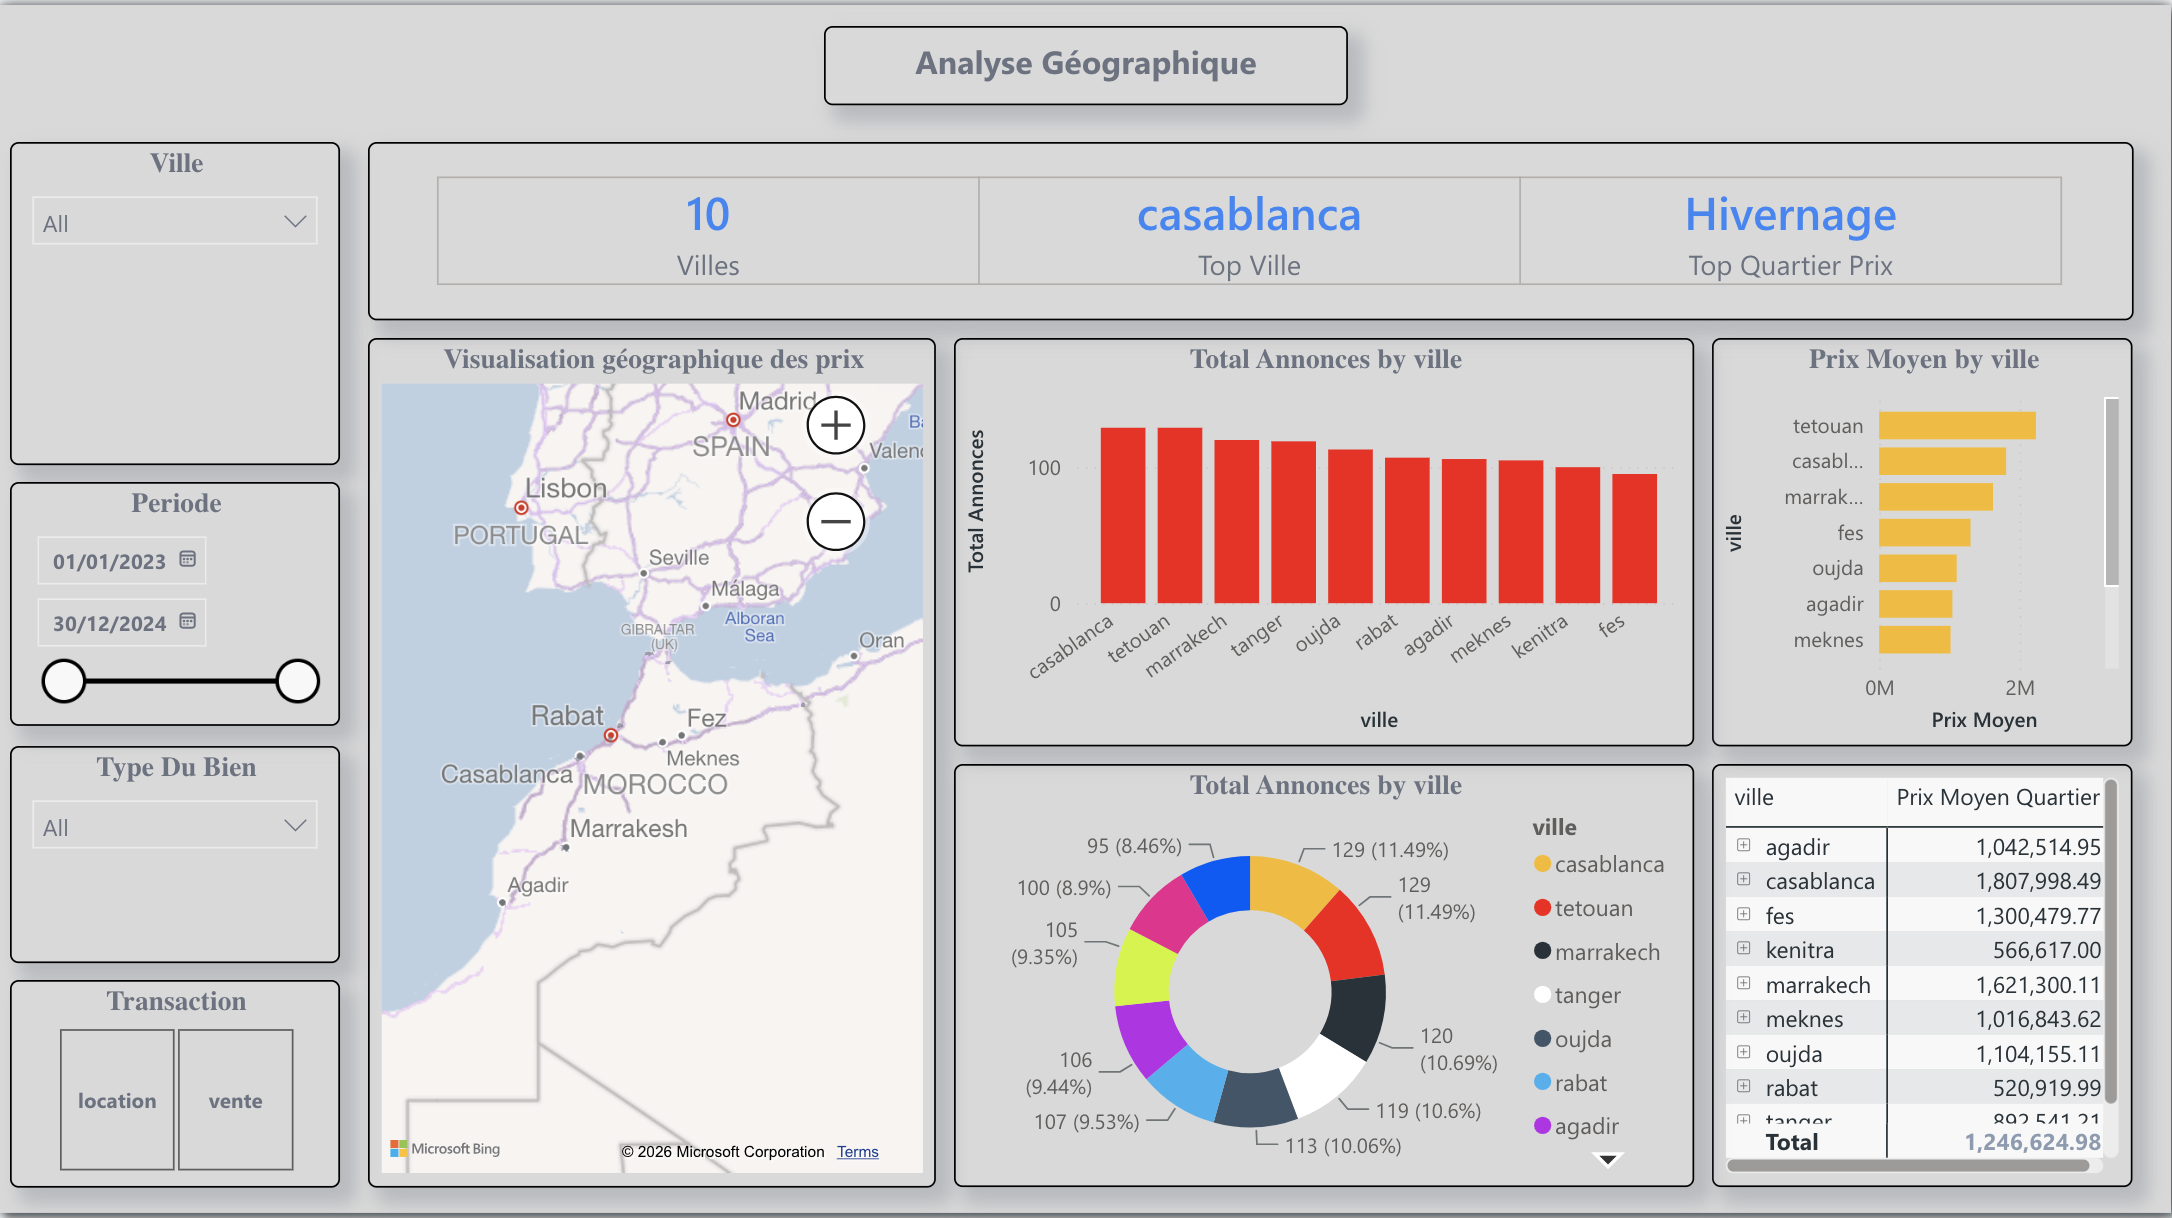

The page's visual inventory and layout, read from the dashboard file:
{"tool":"powerbi","page":{"name":"Analyse Géographique","canvas":[1280,720],"ordinal":3},"visuals":[{"type":"shape","box":[0,0,1280,720],"z":0},{"type":"shape","box":[0,0,1280,720],"z":1000},{"type":"shape","box":[0,0,1280,720.6],"z":2000},{"type":"cardVisual","fields":{"Data":["_measures_glob_page.Nb Villes","Analyse Géographique.Top Ville","Analyse Géographique.Top Quartier Prix"]},"box":[224,89.1,1024.5,103.5],"z":3000},{"type":"textbox","box":[488.7,22.3,304,45.9],"z":4000},{"type":"slicer","title":"Ville","fields":{"Values":["gold subdim_ville.ville"]},"box":[15.7,89.1,191.3,187.3],"z":5000},{"type":"slicer","title":"Type Du Bien ","fields":{"Values":["gold subdim_type_bien.type_bien"]},"box":[15.7,440.2,191.3,125.8],"z":6000},{"type":"slicer","title":"Periode","fields":{"Values":["gold dim_date.date_publication"]},"box":[15.7,286.9,191.3,141.5],"z":7000},{"type":"slicer","title":"Transaction","fields":{"Values":["gold dim_transaction.transaction"]},"box":[15.7,575.1,191.3,120.5],"z":8000},{"type":"filledMap","title":"Visualisation géographique des prix","fields":{"Category":["gold subdim_ville.ville"]},"box":[223.6,203,329.6,492.9],"z":9000},{"type":"clusteredBarChart","fields":{"Category":["gold subdim_ville.ville"],"Y":["_measures_glob_page.Prix Moyen"]},"box":[1003.4,203,244.2,236.9],"z":10000},{"type":"clusteredColumnChart","fields":{"Category":["gold subdim_ville.ville"],"Y":["_measures_glob_page.Total Annonces"]},"box":[563.5,203,429.6,236.9],"z":11000},{"type":"pivotTable","fields":{"Rows":["gold subdim_ville.ville","gold subdim_quartier.quartier"],"Values":["Analyse Géographique.Prix Moyen Quartier"]},"box":[1003.4,450.2,244.2,245.7],"z":12000},{"type":"donutChart","fields":{"Category":["gold subdim_ville.ville"],"Y":["_measures_glob_page.Total Annonces"]},"box":[563.5,450.2,429.6,245.7],"z":13000}]}

Visuals, with their boxes in screenshot pixels (x1, y1, x2, y2), scaled from the page's 1280x720 canvas onto the 2172x1218 screenshot:
shape: bbox=(0, 0, 2171, 1217)
shape: bbox=(0, 0, 2171, 1217)
shape: bbox=(0, 0, 2171, 1217)
cardVisual - _measures_glob_page.Nb Villes x Analyse Géographique.Top Ville: bbox=(380, 151, 2119, 326)
textbox: bbox=(829, 38, 1345, 115)
"Ville" slicer: bbox=(27, 151, 351, 468)
"Type Du Bien " slicer: bbox=(27, 745, 351, 957)
"Periode" slicer: bbox=(27, 485, 351, 725)
"Transaction" slicer: bbox=(27, 973, 351, 1177)
"Visualisation géographique des prix" filledMap: bbox=(379, 343, 939, 1177)
clusteredBarChart - gold subdim_ville.ville x _measures_glob_page.Prix Moyen: bbox=(1703, 343, 2117, 744)
clusteredColumnChart - gold subdim_ville.ville x _measures_glob_page.Total Annonces: bbox=(956, 343, 1685, 744)
pivotTable - gold subdim_ville.ville x gold subdim_quartier.quartier: bbox=(1703, 762, 2117, 1177)
donutChart - gold subdim_ville.ville x _measures_glob_page.Total Annonces: bbox=(956, 762, 1685, 1177)
